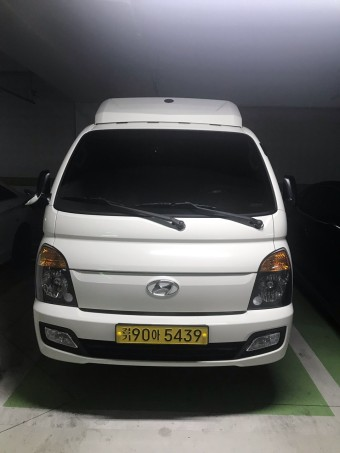car: (113, 322, 211, 349)
